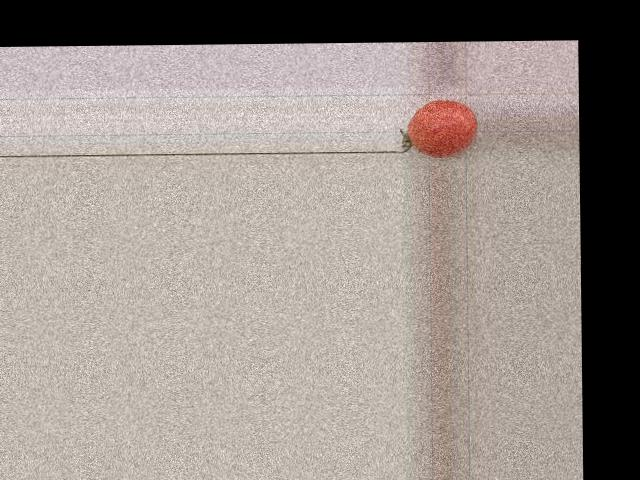tomato: (406, 99, 477, 157)
